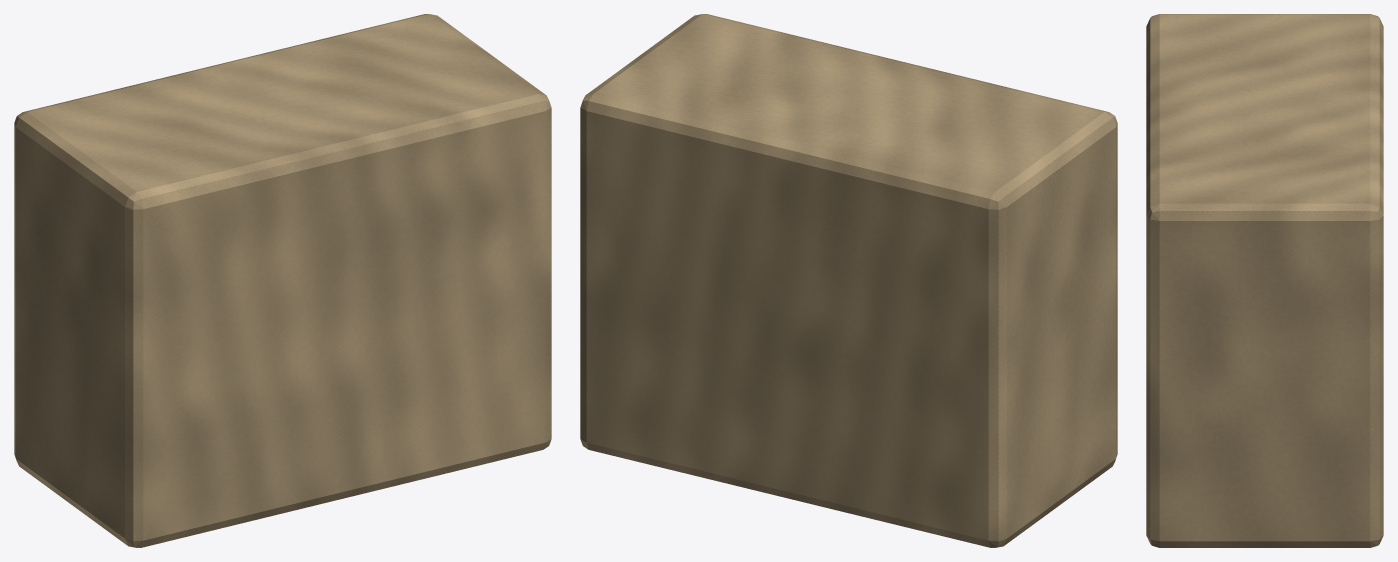
Rendered from UpperTorso.fbx.
3 views of the same model, side by side, from view 1: azimuth 30°, elevation 25°; view 2: azimuth 150°, elevation 25°; view 3: azimuth 270°, elevation 25° (orthographic). The views are drawn at different scales.
Visible parts, largest first — view 1: UpperTorso; view 2: UpperTorso; view 3: UpperTorso.
Boxes of the visible parts, x1=… form: UpperTorso: x1=14, y1=14, x2=551, y2=547; UpperTorso: x1=580, y1=14, x2=1117, y2=547; UpperTorso: x1=1146, y1=14, x2=1383, y2=547.
Bounding box in the file's own units: 2 × 1.6 × 1.
Materials: 1 (1 with a texture image).
